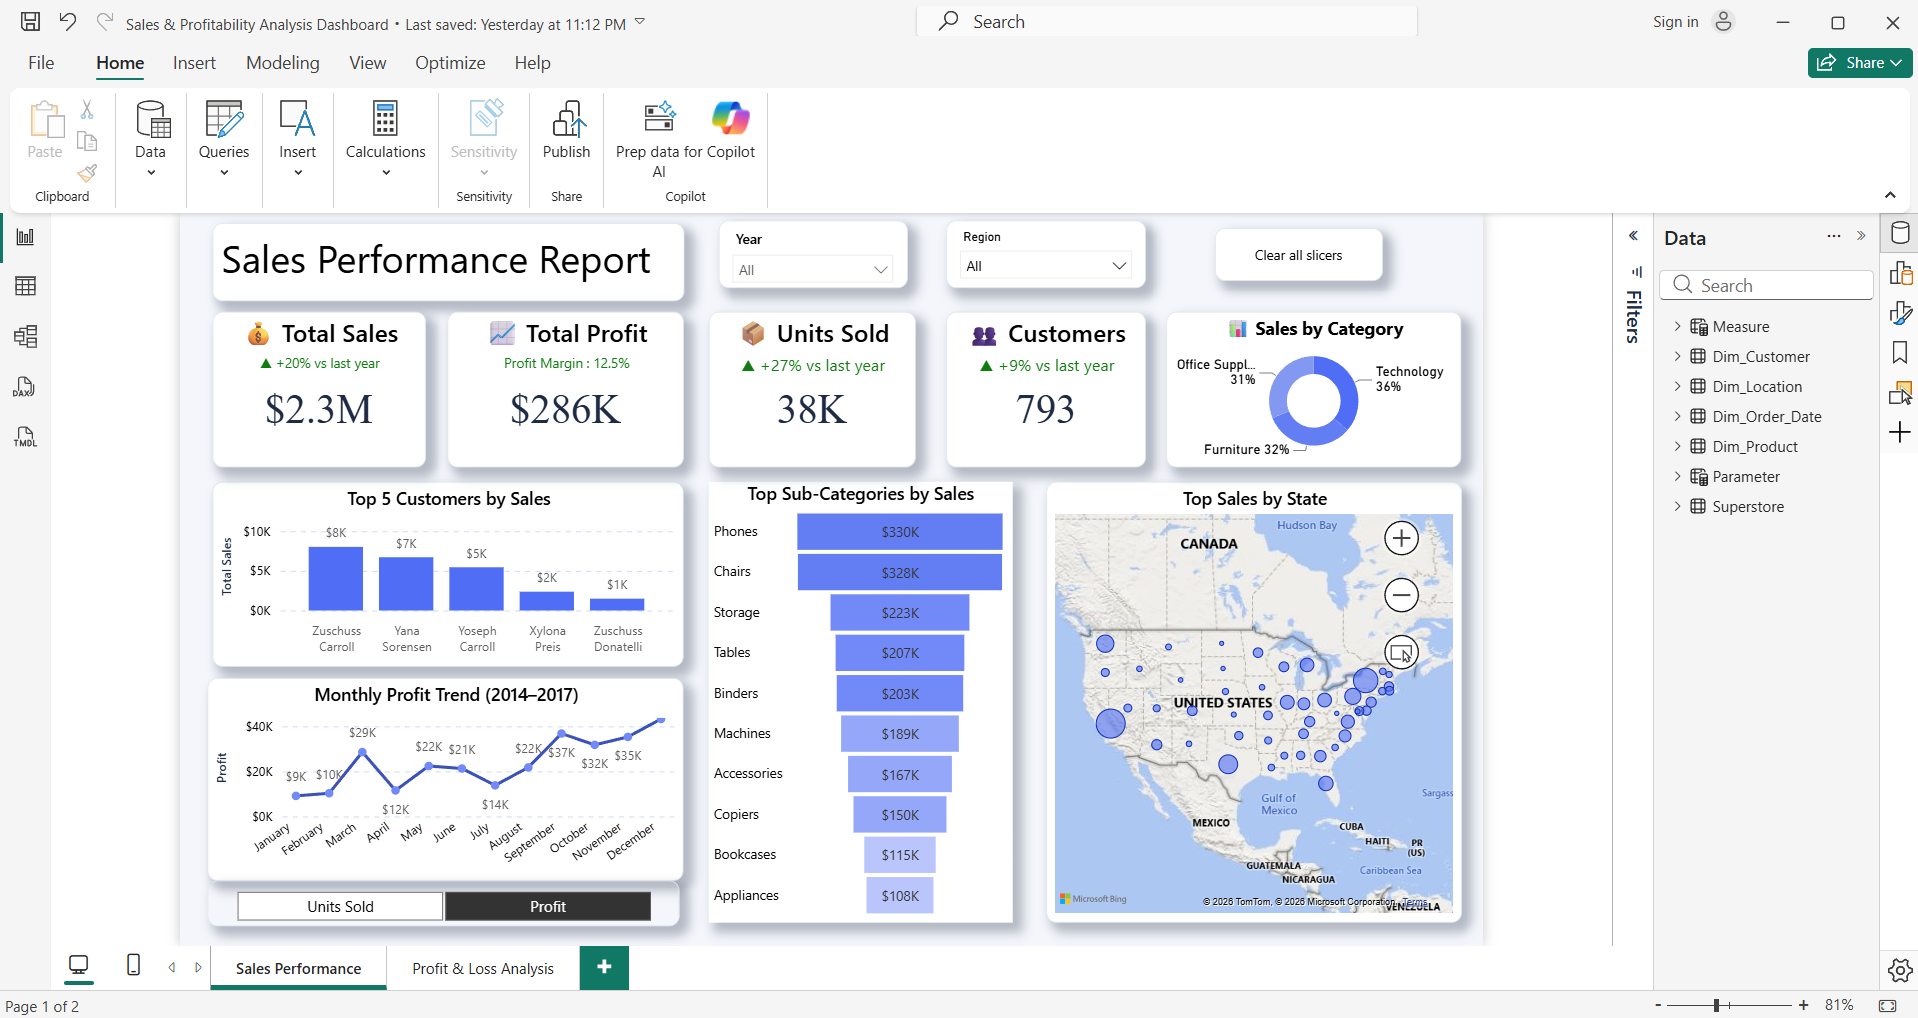

The page's visual inventory and layout, read from the dashboard file:
{"tool":"powerbi","page":{"name":"Sales Performance","canvas":[1280,720],"ordinal":0},"visuals":[{"type":"cardVisual","title":"👥 Customers","fields":{"Data":["Measure.No. of Customers"]},"box":[751.7,96.7,196.2,152.9],"z":1000},{"type":"columnChart","title":"Top 5 Customers by Sales","fields":{"Category":["Dim_Customer.Customer Name"],"Y":["Measure.Total Sales"]},"box":[31.9,263.8,462.6,181.6],"z":2000},{"type":"lineChart","title":"Monthly Profit Trend (2014–2017)","fields":{"Category":["Dim_Order_Date.Month Name"],"Y":["Measure.Total Profit"]},"box":[27.4,455.9,467.5,199.1],"z":3000},{"type":"funnel","title":"Top Sub-Categories by Sales","fields":{"Category":["Superstore.Sub-Category"],"Y":["Measure.Total Sales"]},"box":[519.4,264,298.7,432.8],"z":4000},{"type":"actionButton","box":[1015.7,14.4,164.5,51.9],"z":5000},{"type":"slicer","fields":{"Values":["Parameter.parameter"]},"box":[27.4,655,463.1,44.7],"z":6000},{"type":"slicer","fields":{"Values":["Superstore.Region"]},"box":[751.7,7.2,196.2,66.4],"z":7000},{"type":"textbox","box":[31.7,10.1,463.1,76.5],"z":8000},{"type":"slicer","fields":{"Values":["Dim_Order_Date.Year"]},"box":[528.8,7.4,185.3,66.3],"z":9000},{"type":"cardVisual","title":"💰 Total Sales","fields":{"Data":["Measure.Total Sales"]},"box":[31.7,96.7,209.2,152.9],"z":10000},{"type":"cardVisual","title":"📦 Units Sold","fields":{"Data":["Measure.Units Sold"]},"box":[519.4,96.7,203.4,152.9],"z":11000},{"type":"map","title":"Top Sales by State","fields":{"Category":["Superstore.State"],"Size":["Measure.Total Sales"]},"box":[849.8,264,408.3,432.8],"z":12000},{"type":"cardVisual","title":"📈 Total Profit","fields":{"Data":["Measure.Total Profit"]},"box":[262.6,96.7,232.3,152.9],"z":13000},{"type":"donutChart","title":"📊 Sales by Category","fields":{"Category":["Superstore.Category"],"Y":["Measure.Total Sales"]},"box":[968.1,96.7,290,152.9],"z":14000}]}

Visuals, with their boxes on the page's 1280x720 design canvas (x1, y1, x2, y2). These are canvas units, not pixel positions in the 1918x1018 screenshot, which may show the page scaled, cropped or inside an application window:
"👥 Customers" cardVisual: rect(752, 97, 948, 250)
"Top 5 Customers by Sales" columnChart: rect(32, 264, 494, 445)
"Monthly Profit Trend (2014–2017)" lineChart: rect(27, 456, 495, 655)
"Top Sub-Categories by Sales" funnel: rect(519, 264, 818, 697)
actionButton: rect(1016, 14, 1180, 66)
slicer - Parameter.parameter: rect(27, 655, 490, 700)
slicer - Superstore.Region: rect(752, 7, 948, 74)
textbox: rect(32, 10, 495, 87)
slicer - Dim_Order_Date.Year: rect(529, 7, 714, 74)
"💰 Total Sales" cardVisual: rect(32, 97, 241, 250)
"📦 Units Sold" cardVisual: rect(519, 97, 723, 250)
"Top Sales by State" map: rect(850, 264, 1258, 697)
"📈 Total Profit" cardVisual: rect(263, 97, 495, 250)
"📊 Sales by Category" donutChart: rect(968, 97, 1258, 250)
